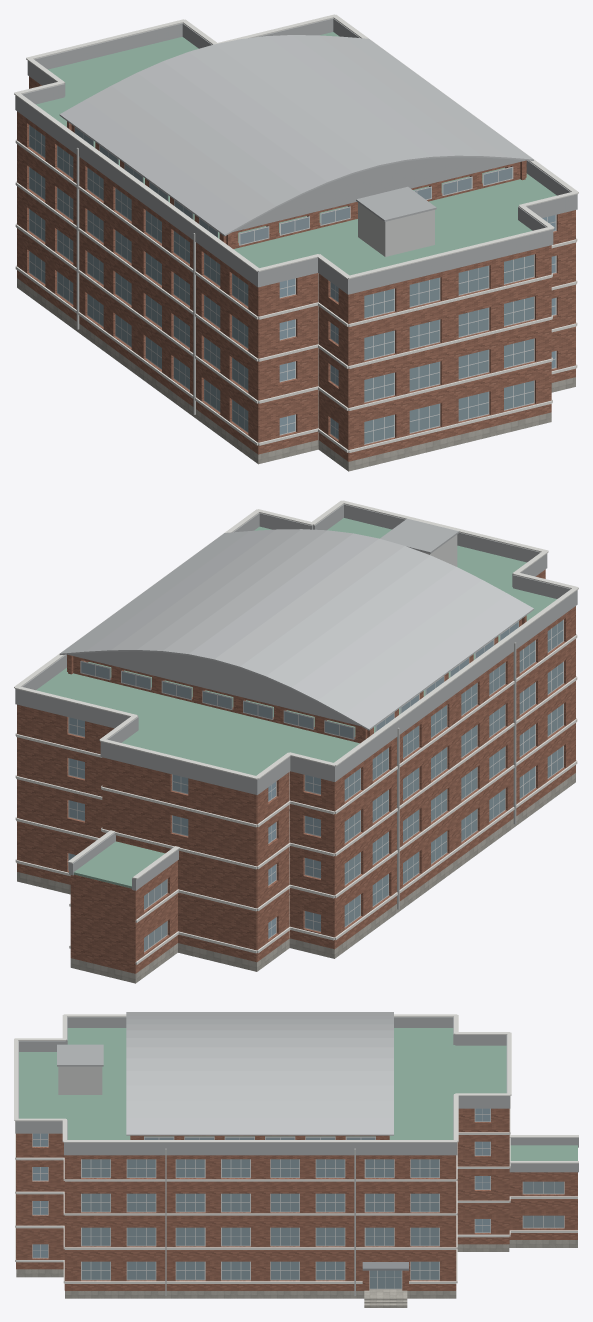
The picture shows the model from 3 angles, top to bottom: view 1: azimuth 30°, elevation 25°; view 2: azimuth 150°, elevation 25°; view 3: azimuth 270°, elevation 25°; orthographic projection. The views are drawn at different scales.
Parts seen in each view (by area): view 1: cheongyeoul__brick, cheongyeoul__vault, cheongyeoul__glass, cheongyeoul__greypanel, cheongyeoul__greenroof, cheongyeoul__band, cheongyeoul__frame, cheongyeoul__stone, cheongyeoul__cap, cheongyeoul__roofbox, cheongyeoul__clerestory, cheongyeoul__stairglass (+1 smaller); view 2: cheongyeoul__brick, cheongyeoul__vault, cheongyeoul__greypanel, cheongyeoul__greenroof, cheongyeoul__glass, cheongyeoul__band, cheongyeoul__cap, cheongyeoul__frame, cheongyeoul__stone, cheongyeoul__clerestory, cheongyeoul__stairglass, cheongyeoul__gutter (+1 smaller); view 3: cheongyeoul__brick, cheongyeoul__vault, cheongyeoul__greenroof, cheongyeoul__glass, cheongyeoul__greypanel, cheongyeoul__band, cheongyeoul__frame, cheongyeoul__stone, cheongyeoul__cap, cheongyeoul__stairglass, cheongyeoul__roofbox, cheongyeoul__sideglass (+4 smaller).
Boxes of the visible parts, <box> form: cheongyeoul__brick: <box>17,76,575,461</box>; cheongyeoul__vault: <box>59,35,533,236</box>; cheongyeoul__glass: <box>29,125,533,443</box>; cheongyeoul__greypanel: <box>15,18,577,294</box>; cheongyeoul__greenroof: <box>36,32,556,275</box>; cheongyeoul__band: <box>15,139,577,452</box>; cheongyeoul__frame: <box>29,125,556,444</box>; cheongyeoul__stone: <box>17,278,575,471</box>; cheongyeoul__cap: <box>14,14,578,279</box>; cheongyeoul__roofbox: <box>358,202,434,256</box>; cheongyeoul__clerestory: <box>75,127,512,245</box>; cheongyeoul__stairglass: <box>279,215,555,438</box>; cheongyeoul__brick: <box>17,569,575,973</box>; cheongyeoul__vault: <box>59,529,533,730</box>; cheongyeoul__greypanel: <box>15,504,577,890</box>; cheongyeoul__greenroof: <box>36,518,556,888</box>; cheongyeoul__glass: <box>344,620,563,926</box>; cheongyeoul__band: <box>15,634,577,964</box>; cheongyeoul__cap: <box>14,500,578,879</box>; cheongyeoul__frame: <box>68,619,563,952</box>; cheongyeoul__stone: <box>17,773,575,983</box>; cheongyeoul__clerestory: <box>81,622,518,739</box>; cheongyeoul__stairglass: <box>69,717,320,938</box>; cheongyeoul__gutter: <box>397,642,516,909</box>; cheongyeoul__brick: <box>16,1108,577,1290</box>; cheongyeoul__vault: <box>126,1012,393,1135</box>; cheongyeoul__greenroof: <box>19,1028,577,1160</box>; cheongyeoul__glass: <box>82,1159,439,1288</box>; cheongyeoul__greypanel: <box>15,1017,578,1172</box>; cheongyeoul__band: <box>15,1096,577,1283</box>; cheongyeoul__frame: <box>32,1108,564,1289</box>; cheongyeoul__stone: <box>16,1240,577,1298</box>; cheongyeoul__cap: <box>14,1014,578,1163</box>; cheongyeoul__stairglass: <box>33,1108,490,1257</box>; cheongyeoul__roofbox: <box>58,1066,102,1094</box>; cheongyeoul__sideglass: <box>523,1181,563,1227</box>.
Bounding box in the file's own units: 29.57 × 18.83 × 51.1.
16 materials, 2 textured.
